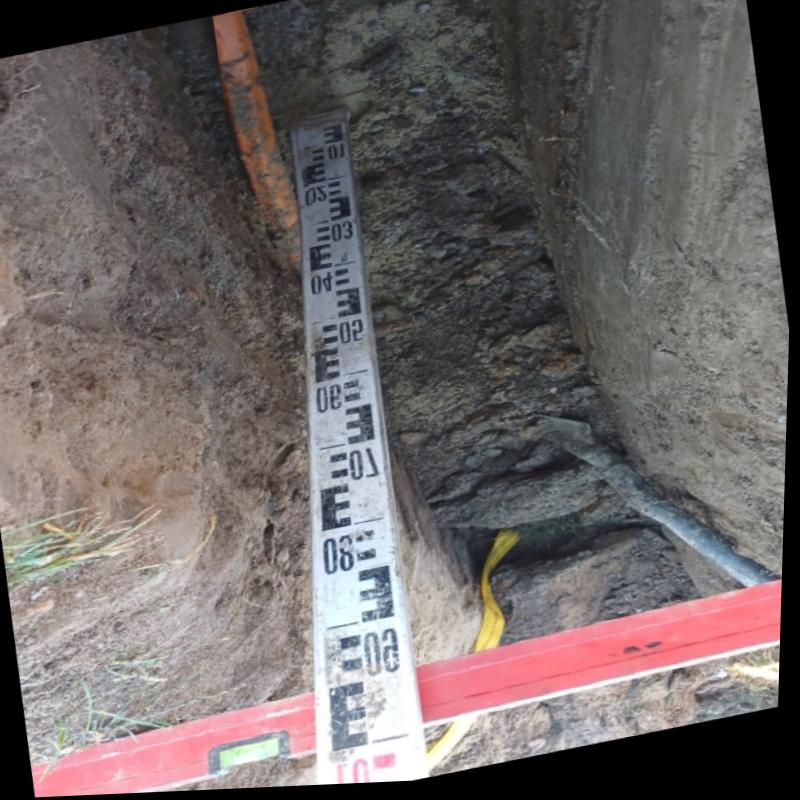Orang-Speednetrohrchen: (212, 12, 318, 228)
